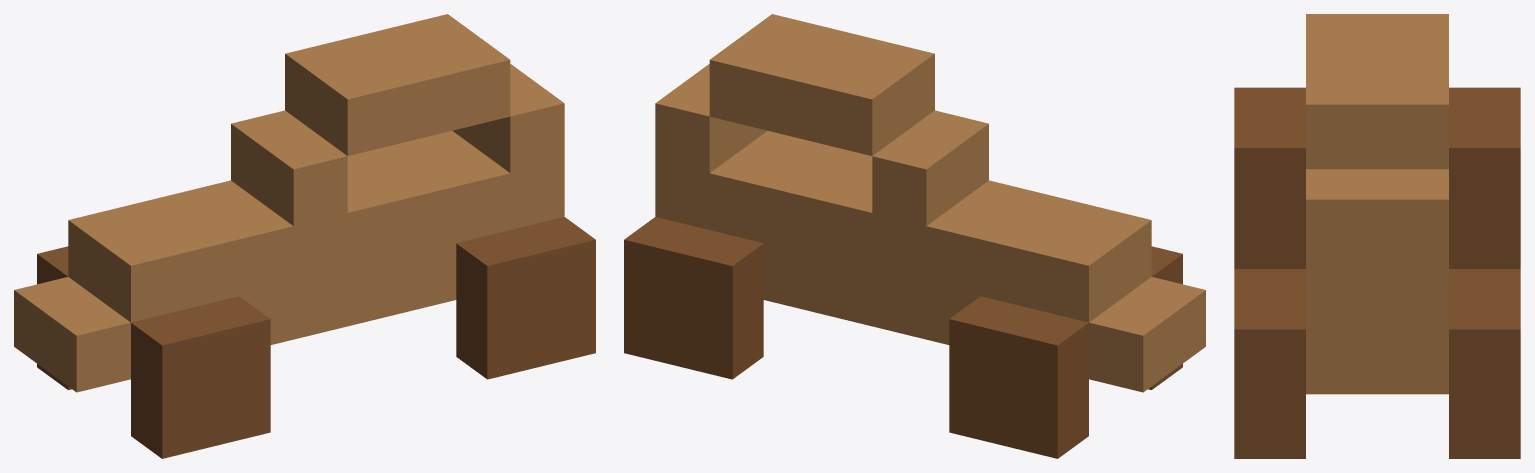
The model's file is toy car.obj.
3 views of the same model, side by side, from view 1: azimuth 30°, elevation 25°; view 2: azimuth 150°, elevation 25°; view 3: azimuth 270°, elevation 25° (orthographic). The views are drawn at different scales.
Size of the model in its own units: 0.9 by 0.5 by 0.4.
1 material, 1 textured.
